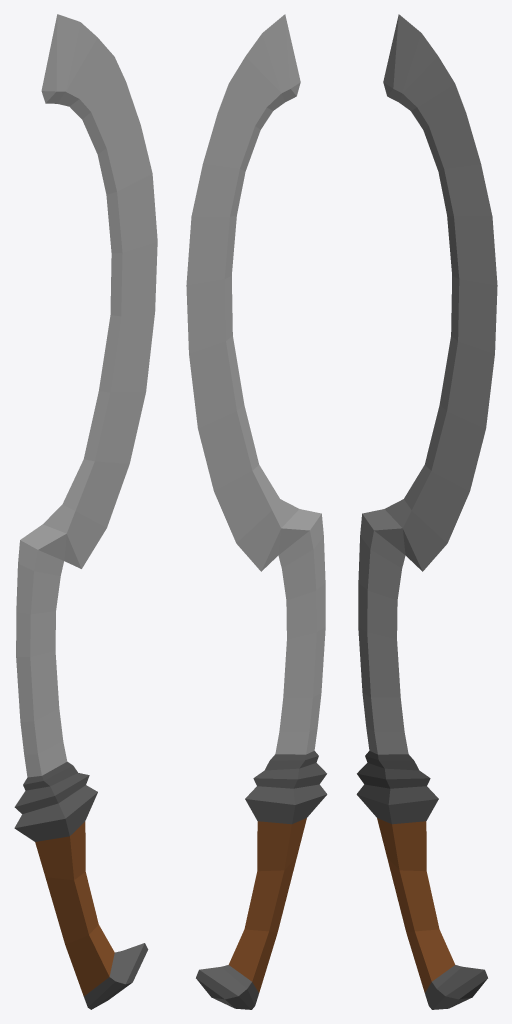
File: Low Poly Weapon Pack - by Kickin It Studios.fbx_Kopesh.glb
3 views of the same model, side by side, from view 1: azimuth 30°, elevation 25°; view 2: azimuth 210°, elevation 25°; view 3: azimuth 330°, elevation 25° (orthographic).
Visible parts, largest first — view 1: Kopesh; view 2: Kopesh; view 3: Kopesh.
Boxes of the visible parts, <box> form: Kopesh: <box>14,14,157,1009</box>; Kopesh: <box>186,14,327,1009</box>; Kopesh: <box>356,14,497,1009</box>.
Size of the model in its own units: 0.2051 by 1.37 by 0.0516.
